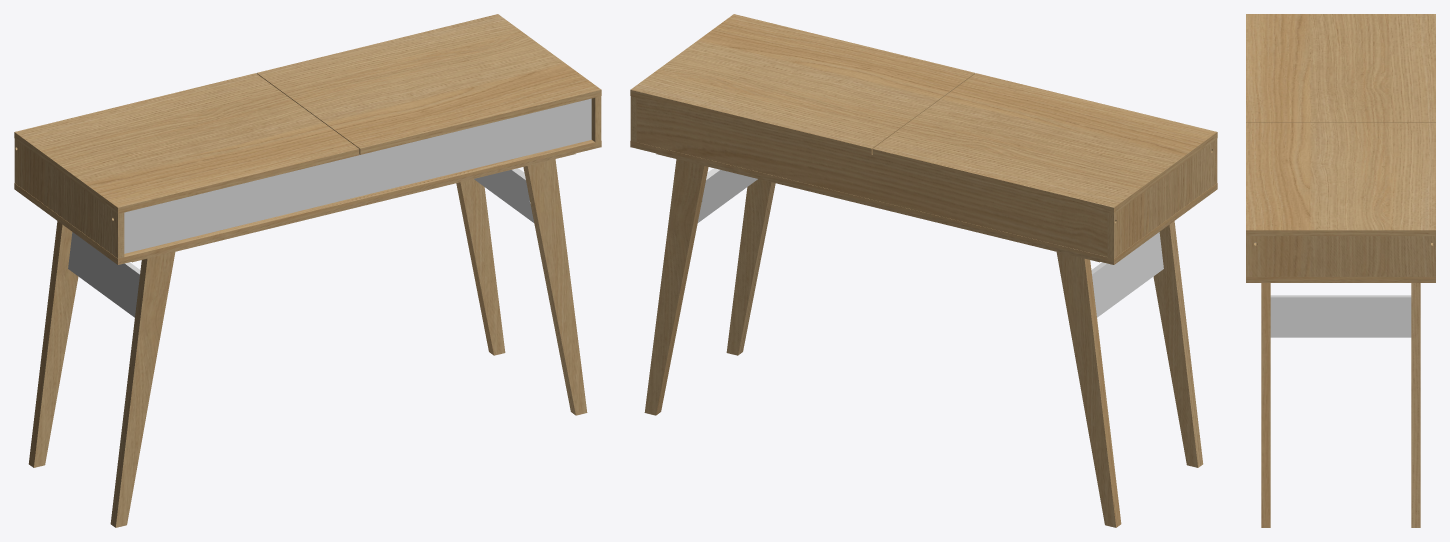
3 views of the same model, side by side, from view 1: azimuth 30°, elevation 25°; view 2: azimuth 150°, elevation 25°; view 3: azimuth 270°, elevation 25° (orthographic). The views are drawn at different scales.
Parts seen in each view (by area): view 1: A334026-TAPASXXXTA001, A334026-TAPASXXXTA, A334026-FRENTESXFR, Simetruc801334026-PATASXXXPA, A334026-PATASXXXPA001, A334026-PISOSXXXPI, A334026-PATASXXXPA, Simetruc801334026-COSTADOSCO, Simetruc801334026-PATASXXXPA001, A334026-PATASXXXRE, A334026-PATASXXXRE001; view 2: A334026-TAPASXXXTA001, A334026-TAPASXXXTA, A334026-FONDOSXXFN, A334026-PATASXXXPA, Simetruc801334026-PATASXXXPA001, Simetruc801334026-PATASXXXPA, Simetruc801334026-COSTADOSCO, A334026-PISOSXXXPI, A334026-PATASXXXPA001, A334026-PATASXXXRE, A334026-PATASXXXRE001; view 3: A334026-TAPASXXXTA, A334026-TAPASXXXTA001, A334026-COSTADOSCO, A334026-PATASXXXRE001, A334026-PATASXXXPA001, Simetruc801334026-PATASXXXPA001, A334026-PISOSXXXPI.
Part boxes in pixels (x1,y1,x2,y2): A334026-TAPASXXXTA001: [14, 73, 359, 213]; A334026-TAPASXXXTA: [256, 14, 601, 154]; A334026-FRENTESXFR: [124, 98, 591, 253]; Simetruc801334026-PATASXXXPA: [110, 252, 175, 527]; A334026-PATASXXXPA001: [523, 159, 587, 415]; A334026-PISOSXXXPI: [14, 140, 601, 264]; A334026-PATASXXXPA: [28, 221, 78, 467]; Simetruc801334026-COSTADOSCO: [14, 139, 124, 258]; Simetruc801334026-PATASXXXPA001: [456, 179, 505, 355]; A334026-PATASXXXRE: [68, 232, 140, 317]; A334026-PATASXXXRE001: [474, 168, 533, 222]; A334026-TAPASXXXTA001: [872, 73, 1217, 213]; A334026-TAPASXXXTA: [630, 14, 975, 154]; A334026-FONDOSXXFN: [636, 98, 1107, 256]; A334026-PATASXXXPA: [1056, 252, 1121, 527]; Simetruc801334026-PATASXXXPA001: [644, 159, 708, 415]; Simetruc801334026-PATASXXXPA: [1153, 221, 1203, 467]; Simetruc801334026-COSTADOSCO: [1107, 139, 1217, 258]; A334026-PISOSXXXPI: [630, 141, 1217, 264]; A334026-PATASXXXPA001: [726, 179, 775, 355]; A334026-PATASXXXRE: [1091, 232, 1163, 317]; A334026-PATASXXXRE001: [698, 168, 757, 222]; A334026-TAPASXXXTA: [1246, 122, 1435, 235]; A334026-TAPASXXXTA001: [1246, 14, 1435, 122]; A334026-COSTADOSCO: [1246, 236, 1435, 276]; A334026-PATASXXXRE001: [1270, 295, 1411, 337]; A334026-PATASXXXPA001: [1261, 283, 1270, 527]; Simetruc801334026-PATASXXXPA001: [1411, 283, 1420, 527]; A334026-PISOSXXXPI: [1246, 277, 1435, 282].
Size of the model in its own units: 1.2 by 0.777 by 0.445.
1 material, 1 textured.
